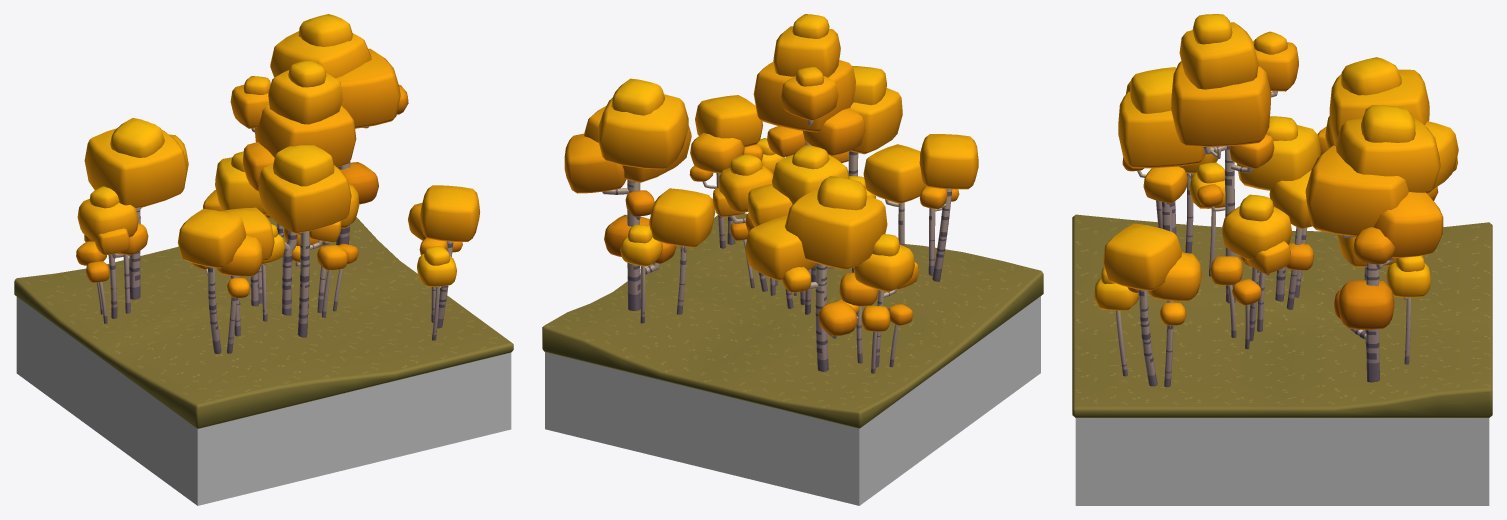
The model's file is island_latesummer.fbx.
3 views of the same model, side by side, from view 1: azimuth 30°, elevation 25°; view 2: azimuth 150°, elevation 25°; view 3: azimuth 270°, elevation 25° (orthographic). The views are drawn at different scales.
Visible parts, largest first — view 1: birch_tree_SC_yellow, grass_top_yellow, ground_block_yellow; view 2: birch_tree_SC_yellow, grass_top_yellow, ground_block_yellow; view 3: birch_tree_SC_yellow, grass_top_yellow, ground_block_yellow.
Part boxes in pixels (<box>): birch_tree_SC_yellow: <box>76,14,479,353</box>; grass_top_yellow: <box>14,217,513,428</box>; ground_block_yellow: <box>16,297,511,505</box>; birch_tree_SC_yellow: <box>564,14,978,373</box>; grass_top_yellow: <box>542,213,1043,428</box>; ground_block_yellow: <box>545,296,1040,505</box>; birch_tree_SC_yellow: <box>1094,14,1458,387</box>; grass_top_yellow: <box>1072,214,1492,417</box>; ground_block_yellow: <box>1075,418,1489,505</box>.
Size of the model in its own units: 1747 by 1740 by 1625.
